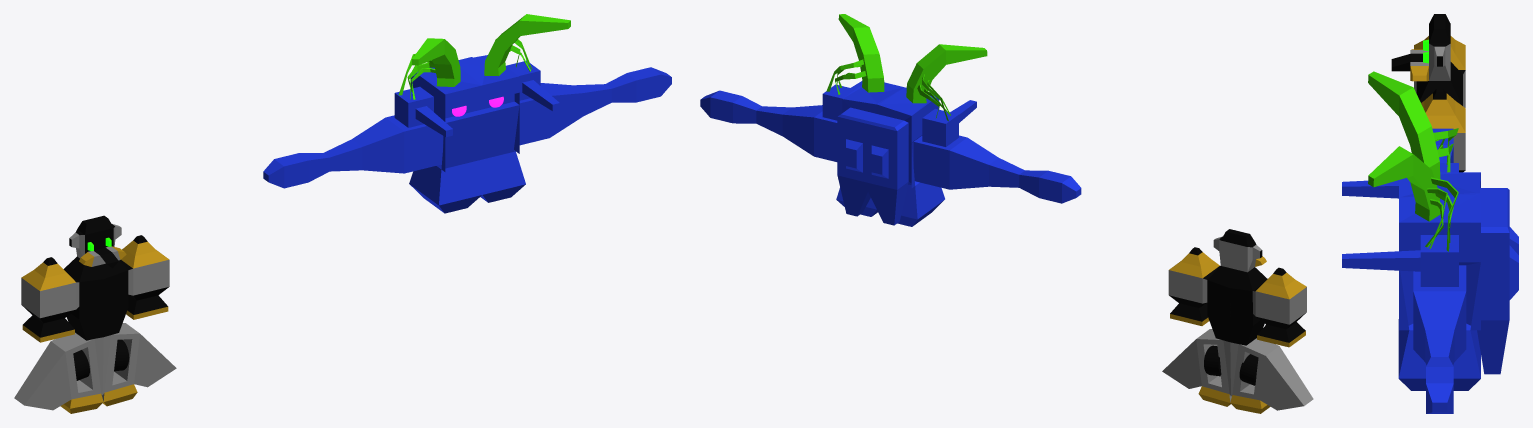
Rendered from robot.fbx.
3 views of the same model, side by side, from view 1: azimuth 30°, elevation 25°; view 2: azimuth 150°, elevation 25°; view 3: azimuth 270°, elevation 25° (orthographic). The views are drawn at different scales.
Parts seen in each view (by area): view 1: Girlbot, Cube; view 2: Girlbot, Cube; view 3: Girlbot, Cube.
Boxes of the visible parts, box(x1,y1,x2,y2) form: Girlbot: box(263, 14, 671, 213); Cube: box(14, 215, 176, 413); Girlbot: box(700, 14, 1081, 226); Cube: box(1162, 229, 1313, 413); Girlbot: box(1342, 71, 1518, 413); Cube: box(1391, 14, 1465, 172).
Bounding box in the file's own units: 1748 × 753 × 298.
